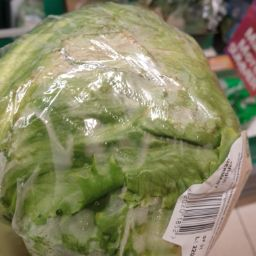Lettuce: (5, 4, 172, 256), (31, 38, 195, 184)
